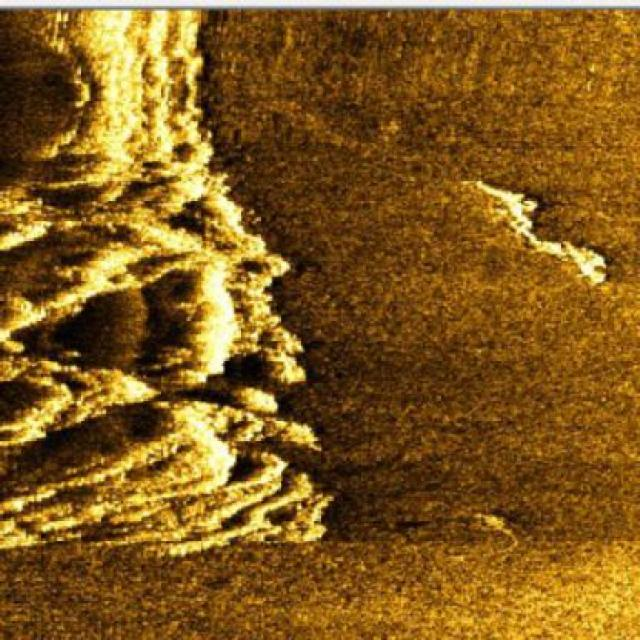bedrock group: (0, 5, 332, 556)
